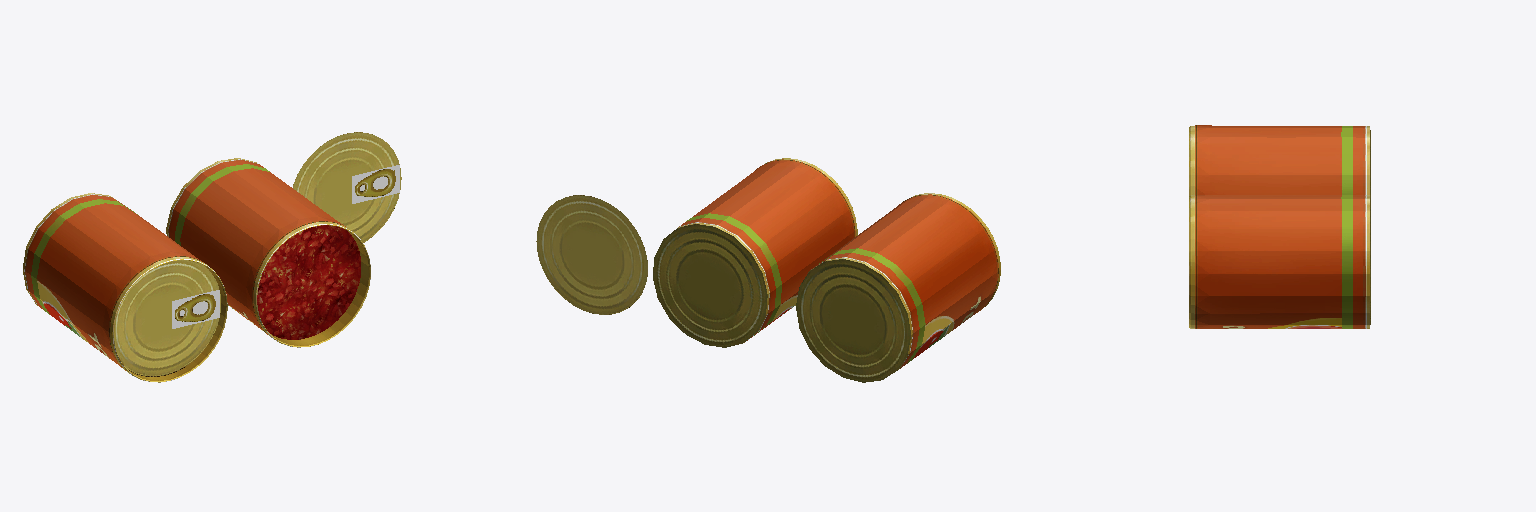
The picture shows the model from 3 angles: view 1: azimuth 30°, elevation 25°; view 2: azimuth 150°, elevation 25°; view 3: azimuth 270°, elevation 25°; orthographic projection.
Parts seen in each view (by area): view 1: object_0; view 2: object_0; view 3: object_0.
Boxes of the visible parts, <box> form: object_0: <box>23,132,401,382</box>; object_0: <box>536,158,1000,382</box>; object_0: <box>1189,125,1370,328</box>.
Bounding box in the file's own units: 14.91 × 4.59 × 6.22.
Materials: 1 (1 with a texture image).